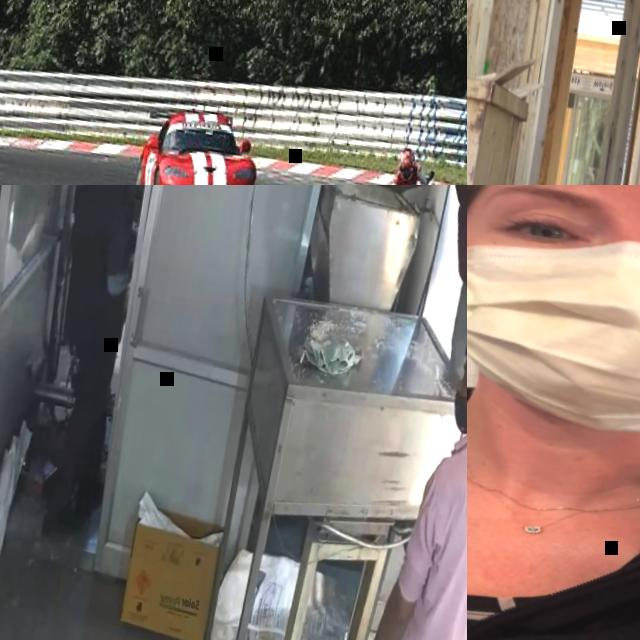Hardhat: (397, 148, 416, 180)
Mask: (467, 227, 640, 453), (447, 390, 467, 432)
NO-Hardhat: (442, 314, 467, 410)
NO-Safety Vest: (467, 396, 640, 640), (379, 434, 467, 640), (58, 185, 134, 345), (391, 166, 418, 185)
Person: (467, 185, 640, 640), (22, 185, 167, 544), (338, 307, 467, 640), (349, 185, 467, 398), (379, 143, 430, 185)
vehicle: (126, 96, 268, 185)
